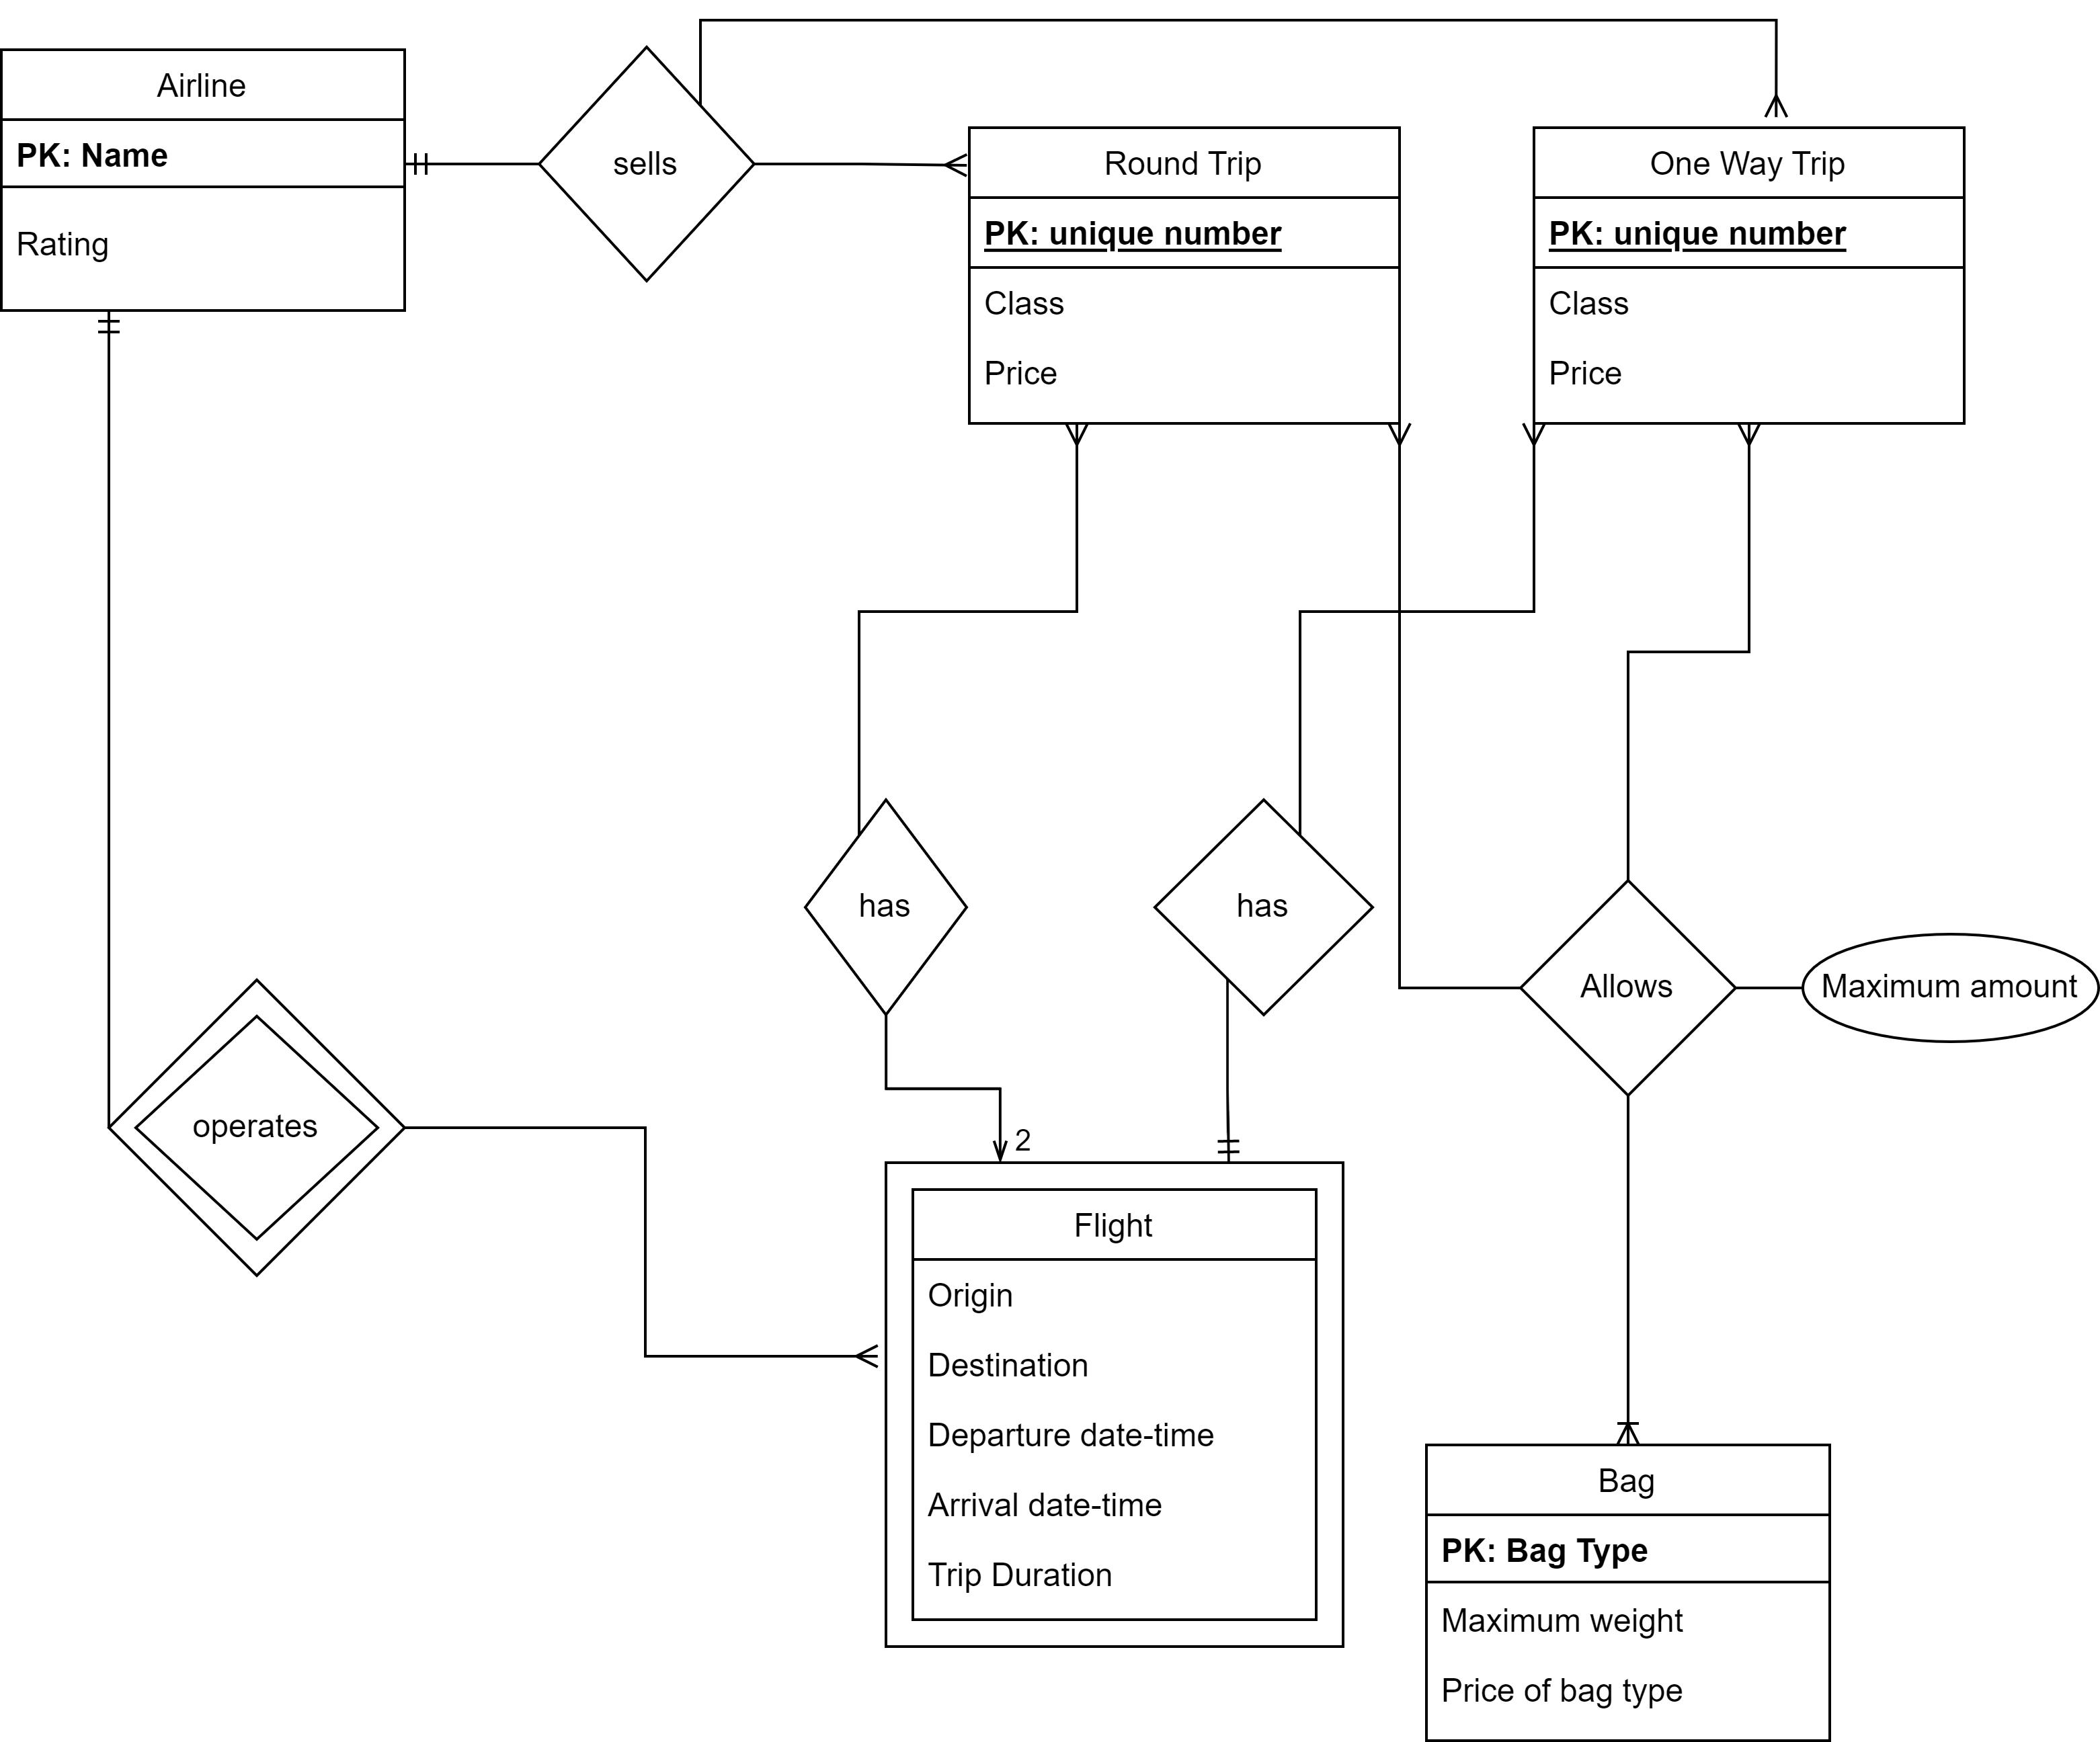attribute: (1802, 924, 2100, 1043)
entity: (963, 122, 1409, 431), (1528, 120, 1971, 431), (1420, 1444, 1833, 1742), (0, 51, 410, 317)
relationship: (1149, 792, 1378, 1015), (541, 47, 750, 282), (1521, 879, 1746, 1092), (799, 797, 973, 1018)
weakentity: (877, 1158, 1348, 1651)
weakrelationship: (106, 975, 403, 1276)
